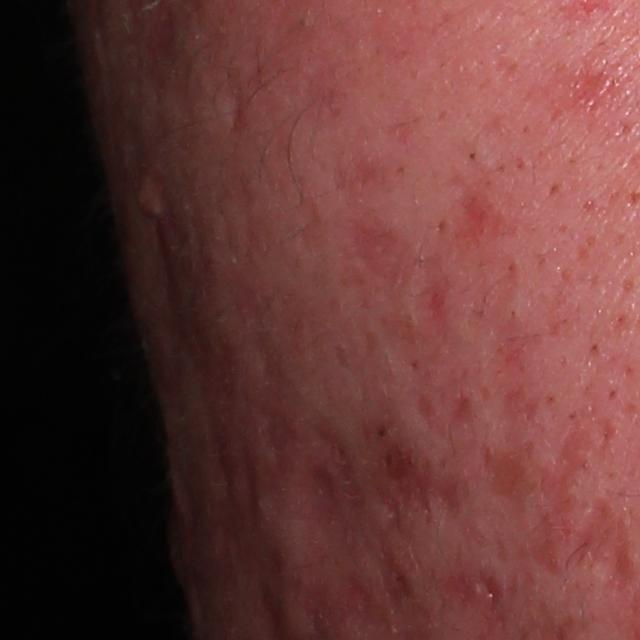atrophic_scar: (479, 406, 632, 593), (157, 247, 248, 531), (359, 344, 472, 533), (296, 458, 362, 556), (251, 353, 297, 460), (316, 423, 362, 511)
comedo: (464, 144, 481, 167)
pustule: (207, 68, 248, 135), (131, 170, 164, 219)
